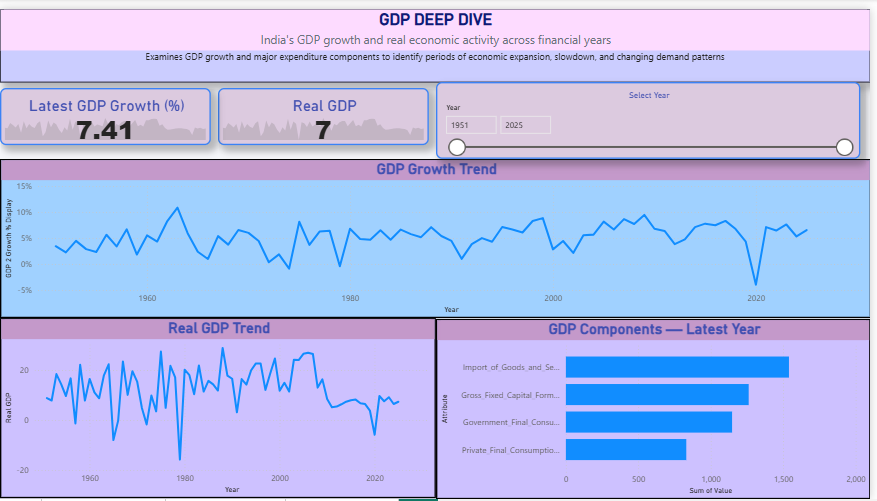

This screenshot's page, from the dashboard's own definition file:
{"tool":"powerbi","page":{"name":"GDP Deep Dive","canvas":[1280,720],"ordinal":1},"visuals":[{"type":"textbox","title":"GDP DEEP DIVE","box":[249.3,0,753.7,107.5],"z":0},{"type":"kpi","title":"Real GDP","fields":{"TrendLine":["GDP.Year"],"Indicator":["GDP.GDP Growth % Display"]},"box":[317.1,108.6,309.6,83.5],"z":1000},{"type":"lineChart","title":"Real GDP Trend","fields":{"Category":["GDP.Year"],"Y":["GDP.Real GDP"]},"box":[0,469.1,627,240.4],"z":2000},{"type":"lineChart","title":"GDP Growth Trend","fields":{"Category":["GDP.Year"],"Y":["GDP.GDP Growth %"]},"box":[220.1,207.1,839.8,247.6],"z":3000},{"type":"kpi","title":"Latest GDP Growth (%)","fields":{"TrendLine":["GDP.Year"],"Indicator":["GDP.Latest Real GDP"]},"box":[0,108,309.6,83.5],"z":4000},{"type":"clusteredBarChart","title":"GDP Components — Latest Year","fields":{"Category":["GDP.Attribute"],"Y":["Sum(GDP.Value)"]},"box":[640,469.1,640,250.5],"z":5000},{"type":"slicer","title":"Select Year","fields":{"Values":["GDP.Year"]},"box":[640,108.6,622.6,84],"z":6000}]}

Visuals, with their boxes in screenshot pixels (x1, y1, x2, y2), scaled from the page's 1280x720 canvas onto the 877x501 screenshot:
"GDP DEEP DIVE" textbox: l=171, t=0, r=687, b=75
"Real GDP" kpi: l=217, t=76, r=429, b=134
"Real GDP Trend" lineChart: l=0, t=326, r=430, b=494
"GDP Growth Trend" lineChart: l=151, t=144, r=726, b=316
"Latest GDP Growth (%)" kpi: l=0, t=75, r=212, b=133
"GDP Components — Latest Year" clusteredBarChart: l=438, t=326, r=876, b=500
"Select Year" slicer: l=438, t=76, r=865, b=134
